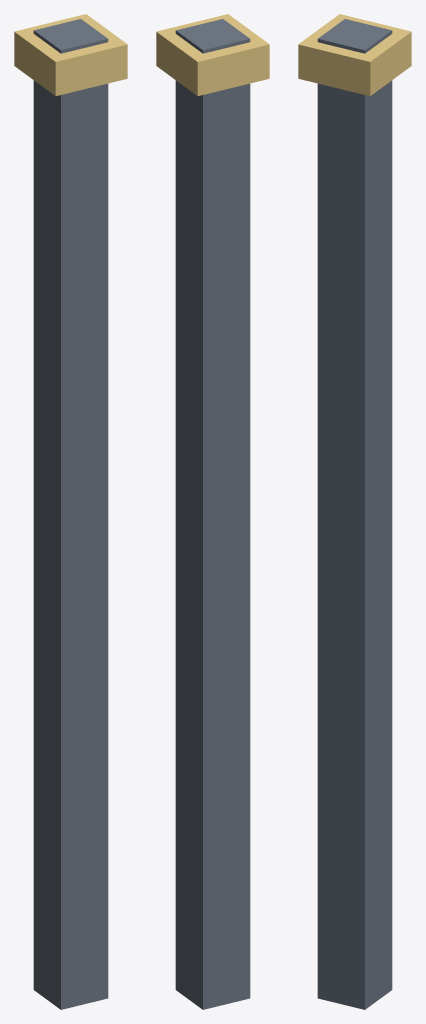
Rendered from column.glb.
3 renders of one model, left to right at view 1: azimuth 30°, elevation 25°; view 2: azimuth 210°, elevation 25°; view 3: azimuth 330°, elevation 25°, orthographic.
Visible parts, largest first — view 1: world; view 2: world; view 3: world.
Part boxes in pixels (x1=…): world: x1=14, y1=14, x2=127, y2=1009; world: x1=156, y1=14, x2=269, y2=1009; world: x1=298, y1=14, x2=411, y2=1009.
Bounding box in the file's own units: 0.55 × 7 × 0.55.
